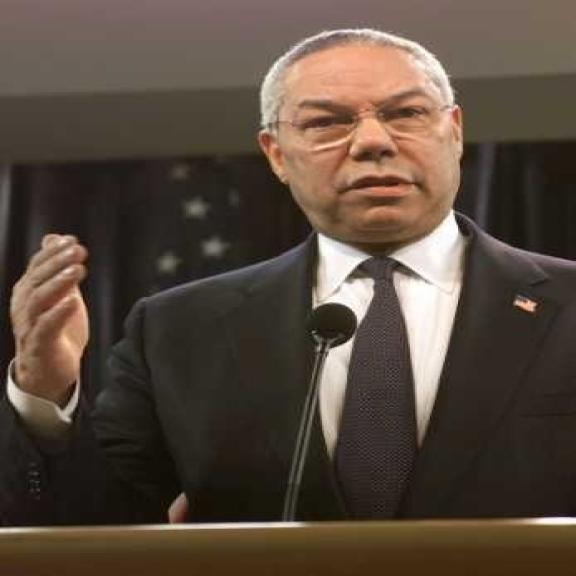face: (252, 35, 473, 242)
